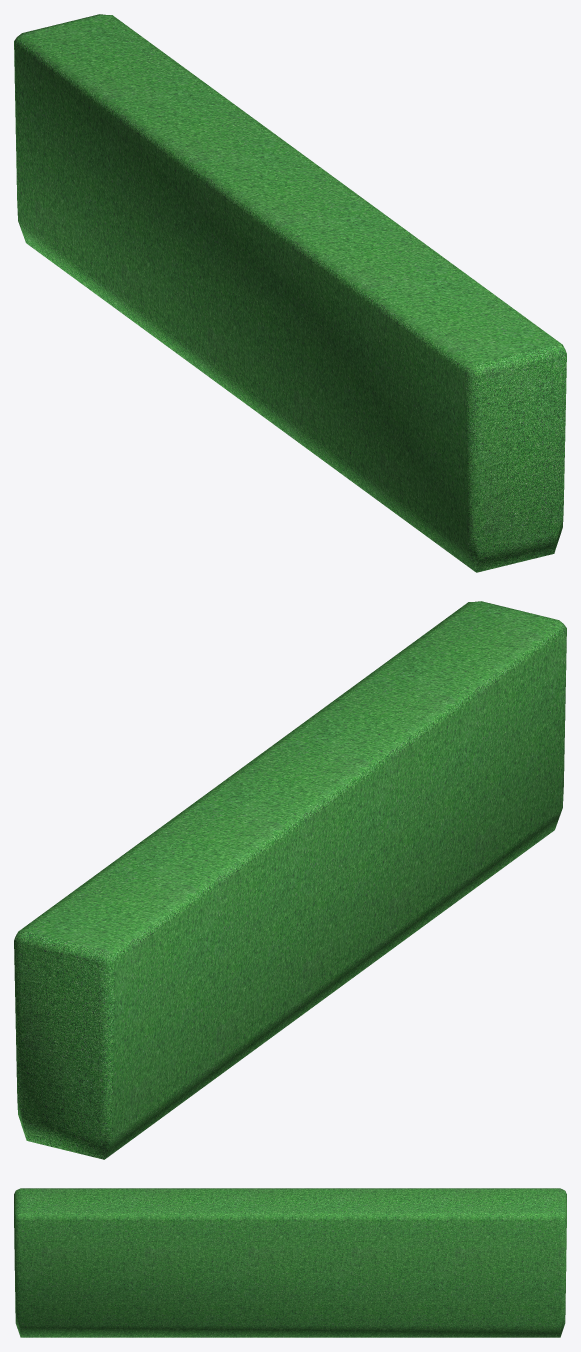
File: Hedge 4m.FBX
The picture shows the model from 3 angles, top to bottom: view 1: azimuth 30°, elevation 25°; view 2: azimuth 150°, elevation 25°; view 3: azimuth 270°, elevation 25°; orthographic projection. The views are drawn at different scales.
Parts seen in each view (by area): view 1: Hedge 4m; view 2: Hedge 4m; view 3: Hedge 4m.
Part boxes in pixels (x1=…): Hedge 4m: x1=14, y1=14, x2=566, y2=572; Hedge 4m: x1=14, y1=601, x2=566, y2=1159; Hedge 4m: x1=14, y1=1188, x2=566, y2=1337.
Size of the model in its own units: 19.69 by 39.37 by 157.
Materials: 1 (1 with a texture image).
